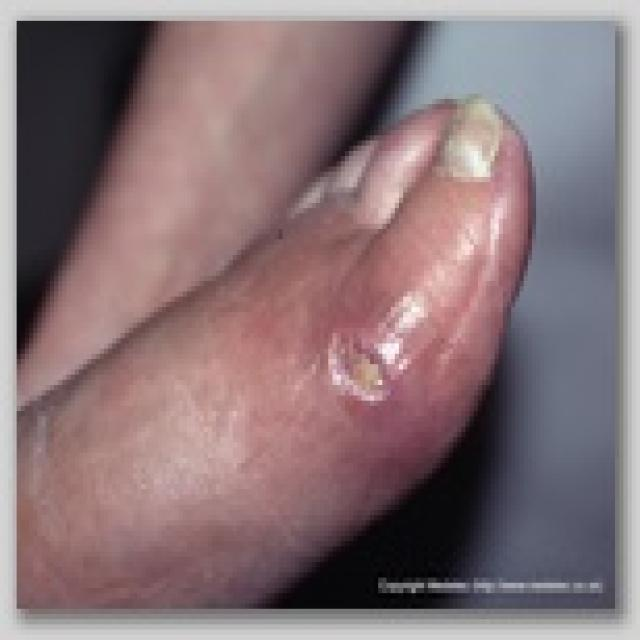wound: (324, 328, 395, 400)
